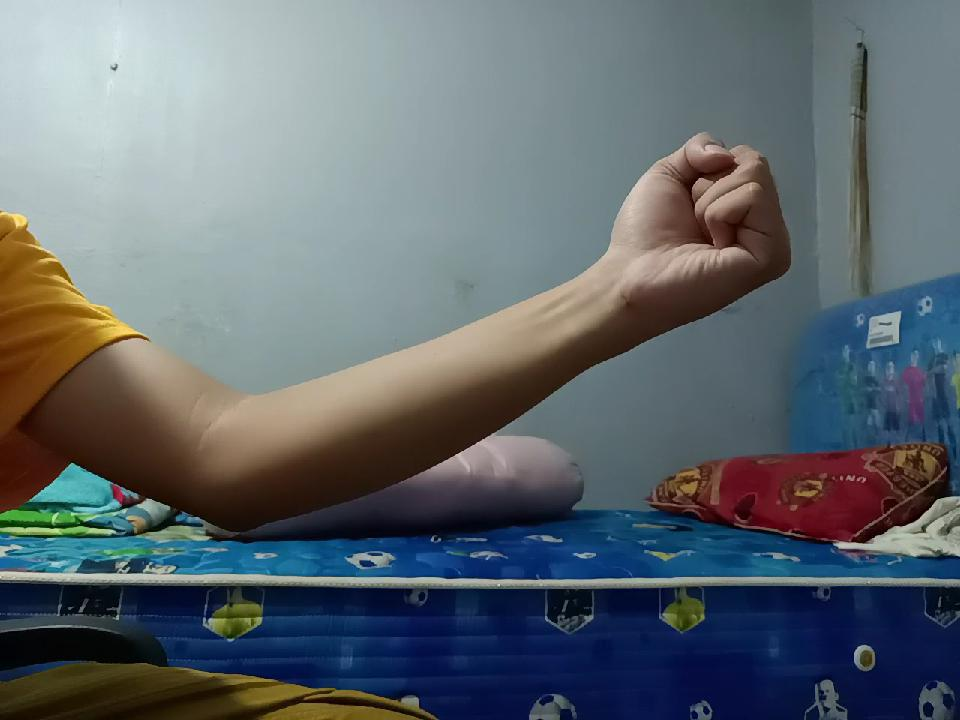rock: (610, 122, 792, 334)
